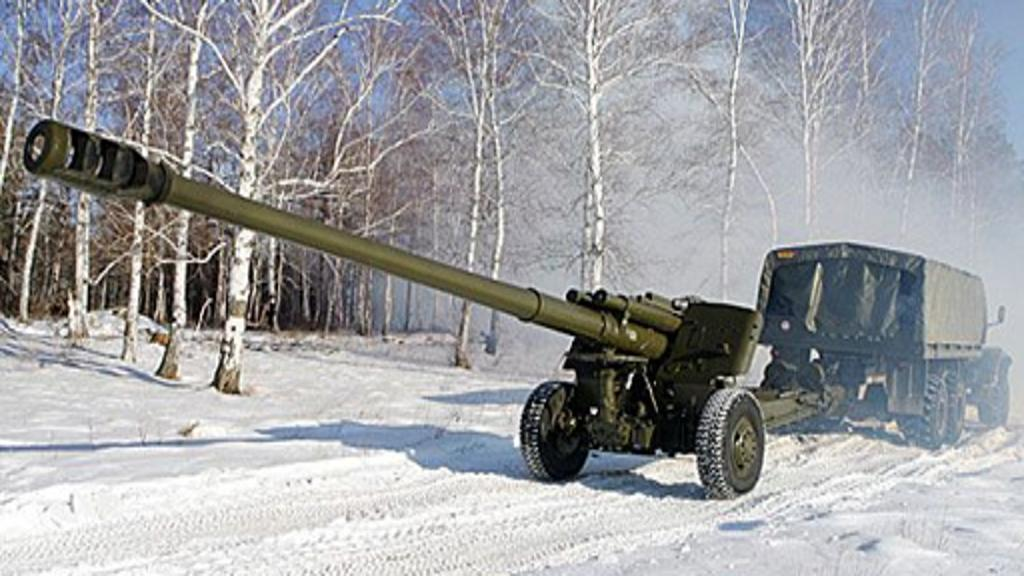ART: (22, 116, 766, 500)
TRUCK: (754, 237, 1018, 444)
